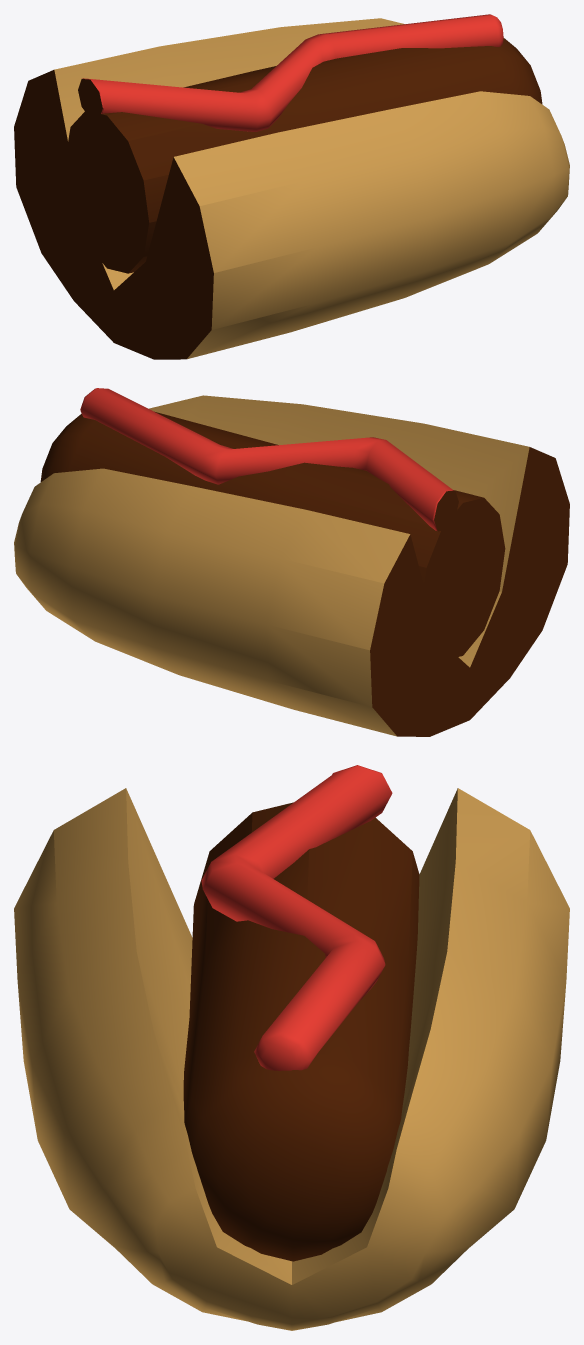
File: hotdog_left.fbx
3 renders of one model, top to bottom at view 1: azimuth 30°, elevation 25°; view 2: azimuth 150°, elevation 25°; view 3: azimuth 270°, elevation 25°, orthographic. The views are drawn at different scales.
Visible parts, largest first — view 1: Hotdog; view 2: Hotdog; view 3: Hotdog.
Part boxes in pixels (left/top/right/bottom): Hotdog: left=14, top=14, right=569, bottom=359; Hotdog: left=14, top=388, right=569, bottom=736; Hotdog: left=14, top=765, right=569, bottom=1330.
Bounding box in the file's own units: 25.23 × 14.26 × 20.98.
